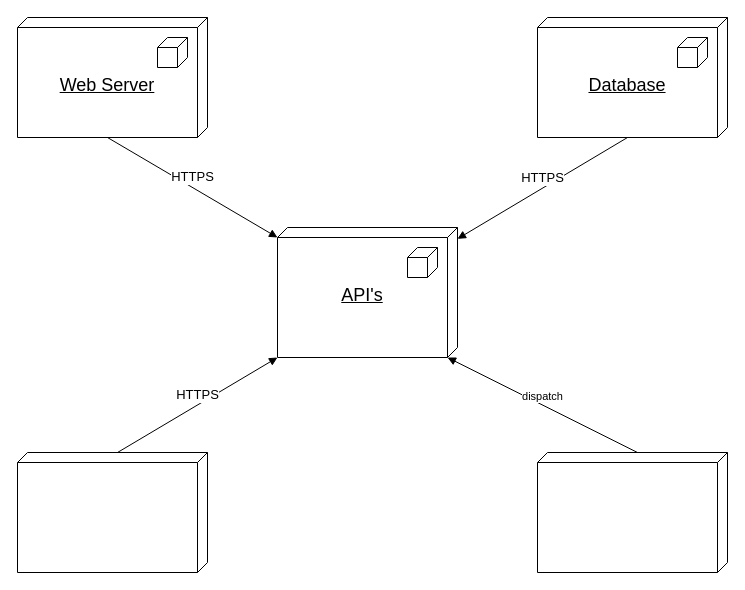
Image size: 745x590. Some labels were removed from this diagram. Each missing label, with the centre of its shape:
App Components: pixel 632 512
Web Browser: pixel 112 512
